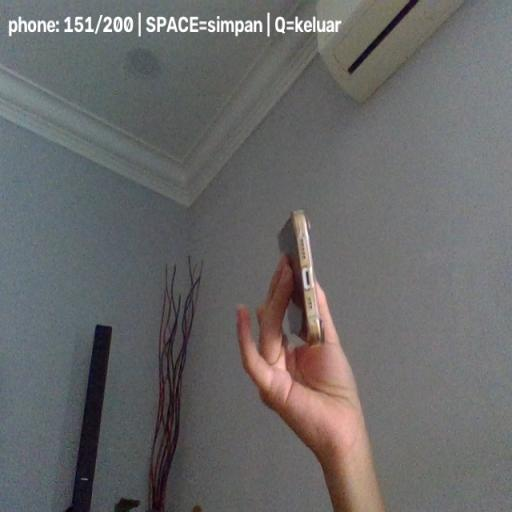Phone: (277, 210, 325, 348)
